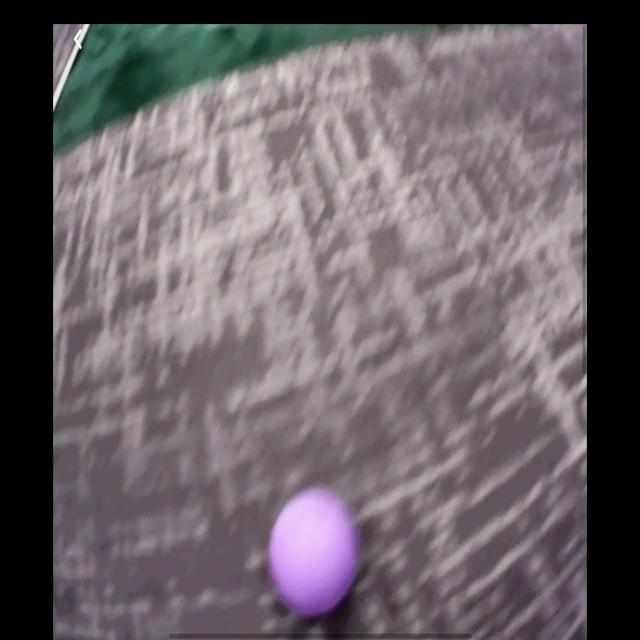ball: (269, 491, 354, 617)
